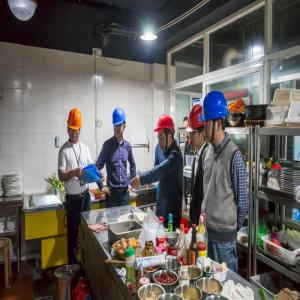blue: (203, 92, 229, 146), (112, 108, 128, 140)
red: (187, 104, 207, 153), (156, 115, 177, 152)
yellow: (68, 107, 85, 144)
